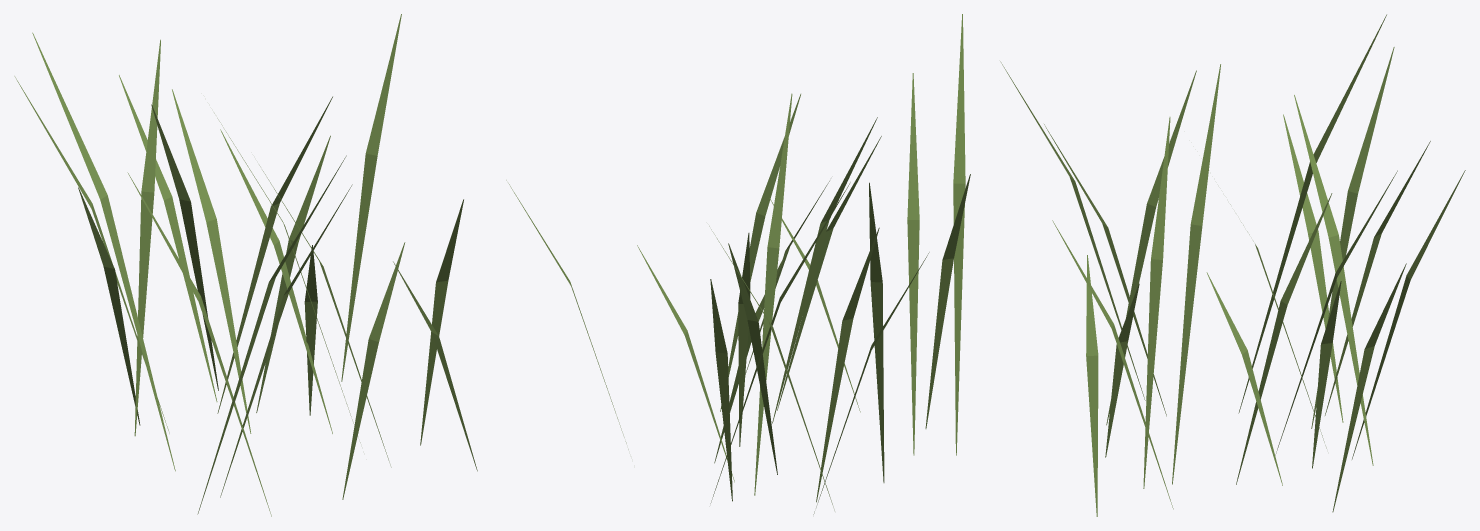
File: tall_grass_lod1.glb
3 views of the same model, side by side, from view 1: azimuth 30°, elevation 25°; view 2: azimuth 150°, elevation 25°; view 3: azimuth 270°, elevation 25° (orthographic). The views are drawn at different scales.
Visible parts, largest first — view 1: Leaves; view 2: Leaves; view 3: Leaves.
Part boxes in pixels (bbox=[...]): Leaves: bbox=[14, 14, 477, 516]; Leaves: bbox=[506, 14, 970, 514]; Leaves: bbox=[1000, 14, 1465, 516].
Size of the model in its own units: 0.8593 by 0.8316 by 0.9407.
